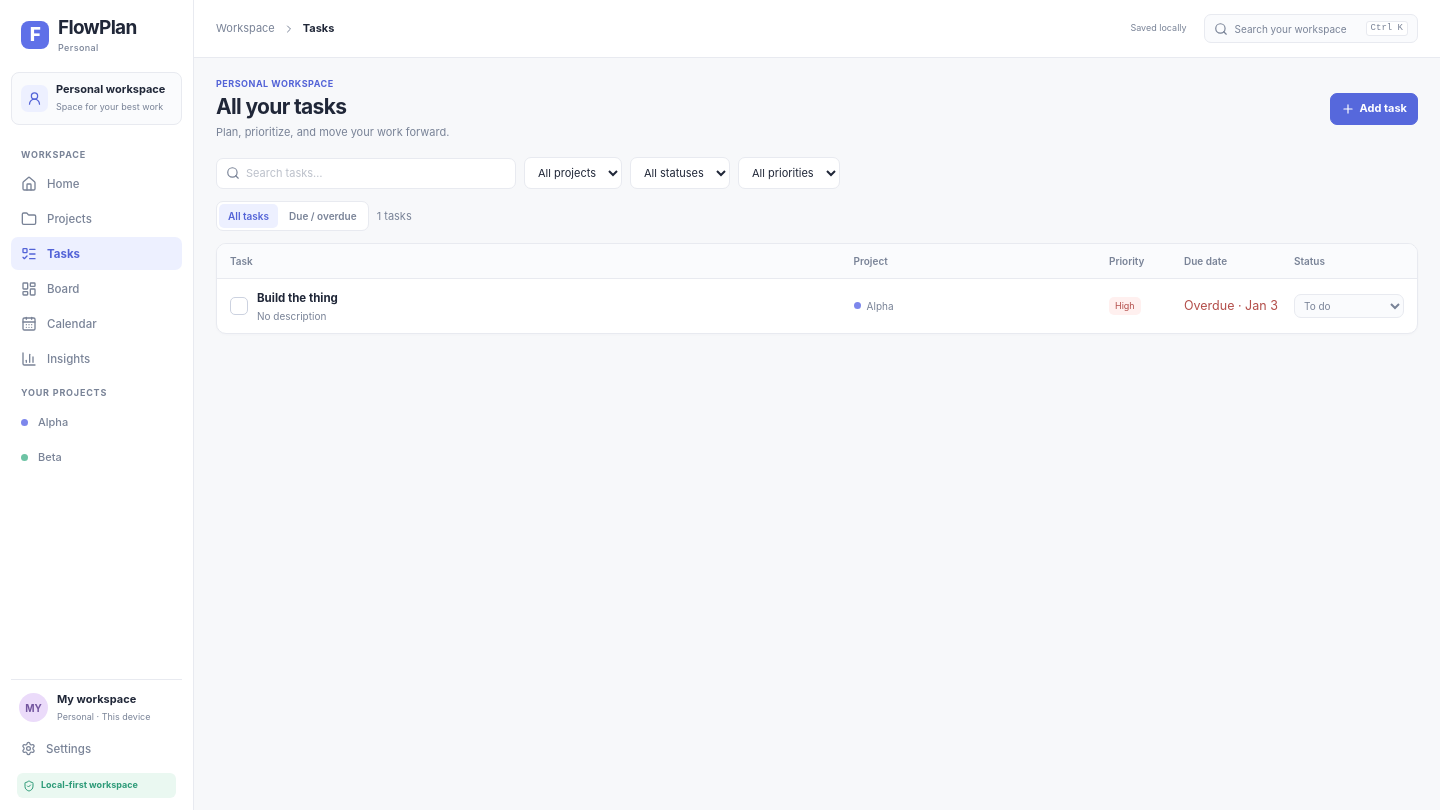
user workflows › edits priorities and workflow status through the task dialog
The image size is (1440, 810).
Click the button "Build the thing". click: (297, 298)
box: [257,290,338,306]
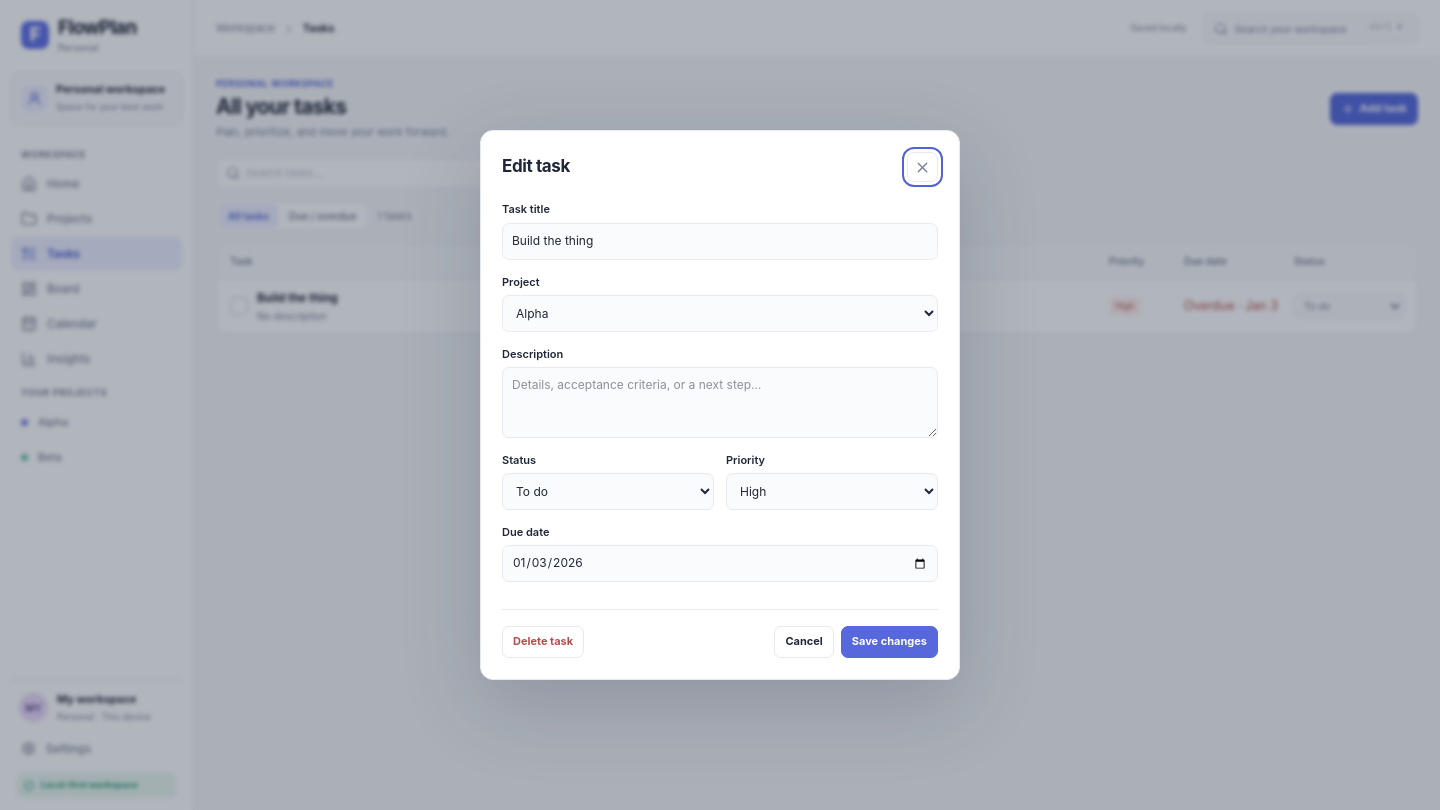
Select "Review" in the dropdown labelled "Status". click: (608, 492)
box: [502,473,714,510]
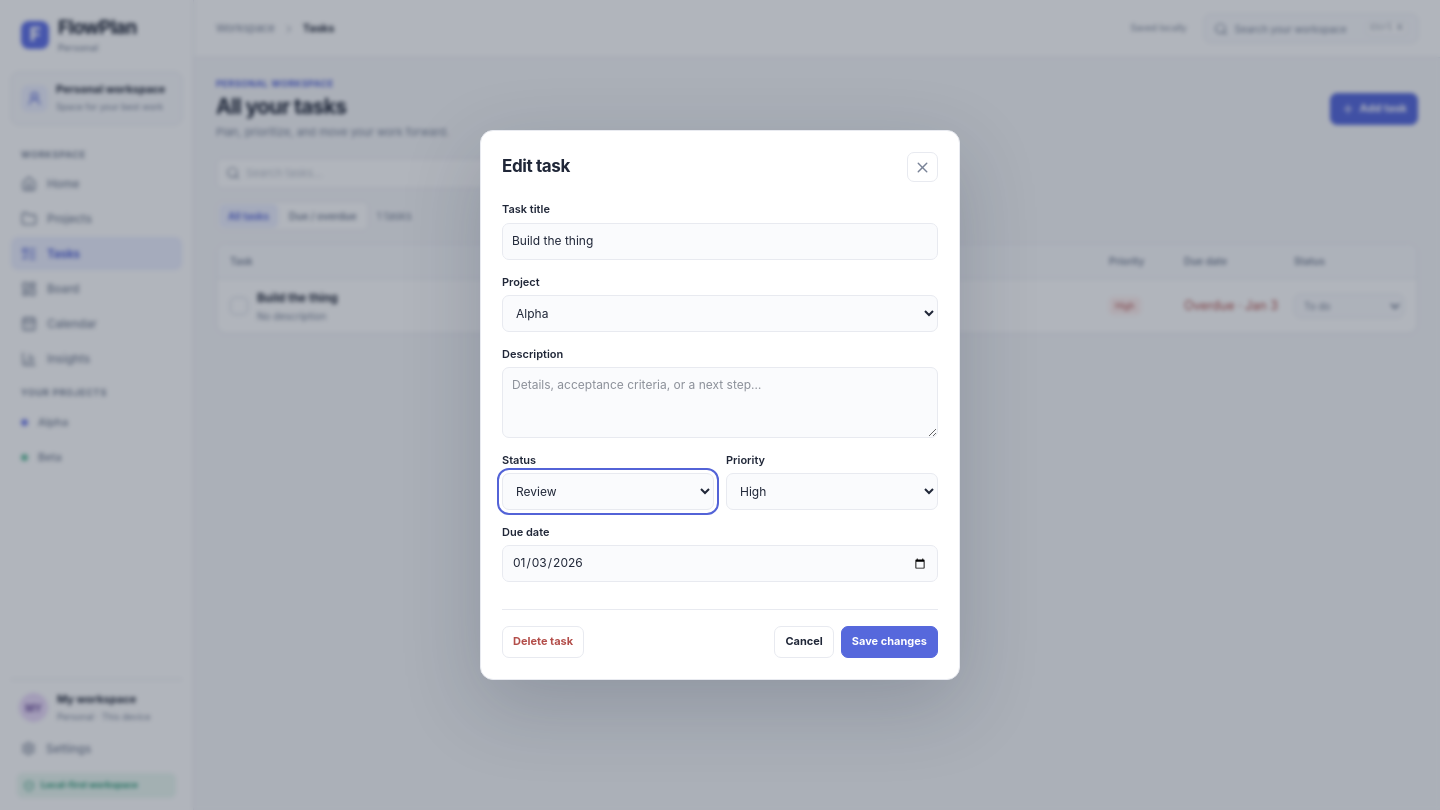
Select "Low" in the dropdown labelled "Priority". click: (832, 492)
box: [726,473,938,510]
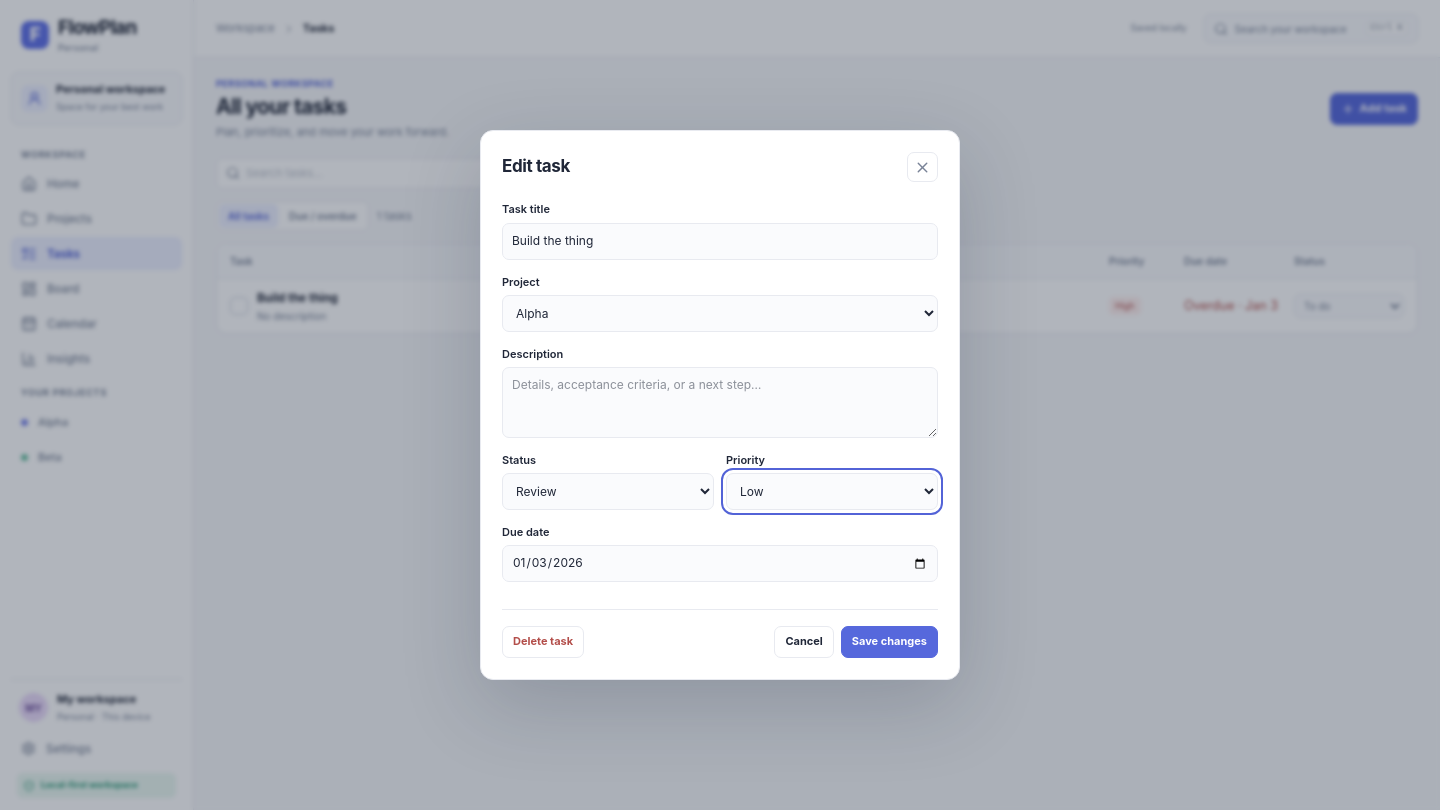
Click the button "Save changes". click: (889, 642)
box: [841,626,938,658]
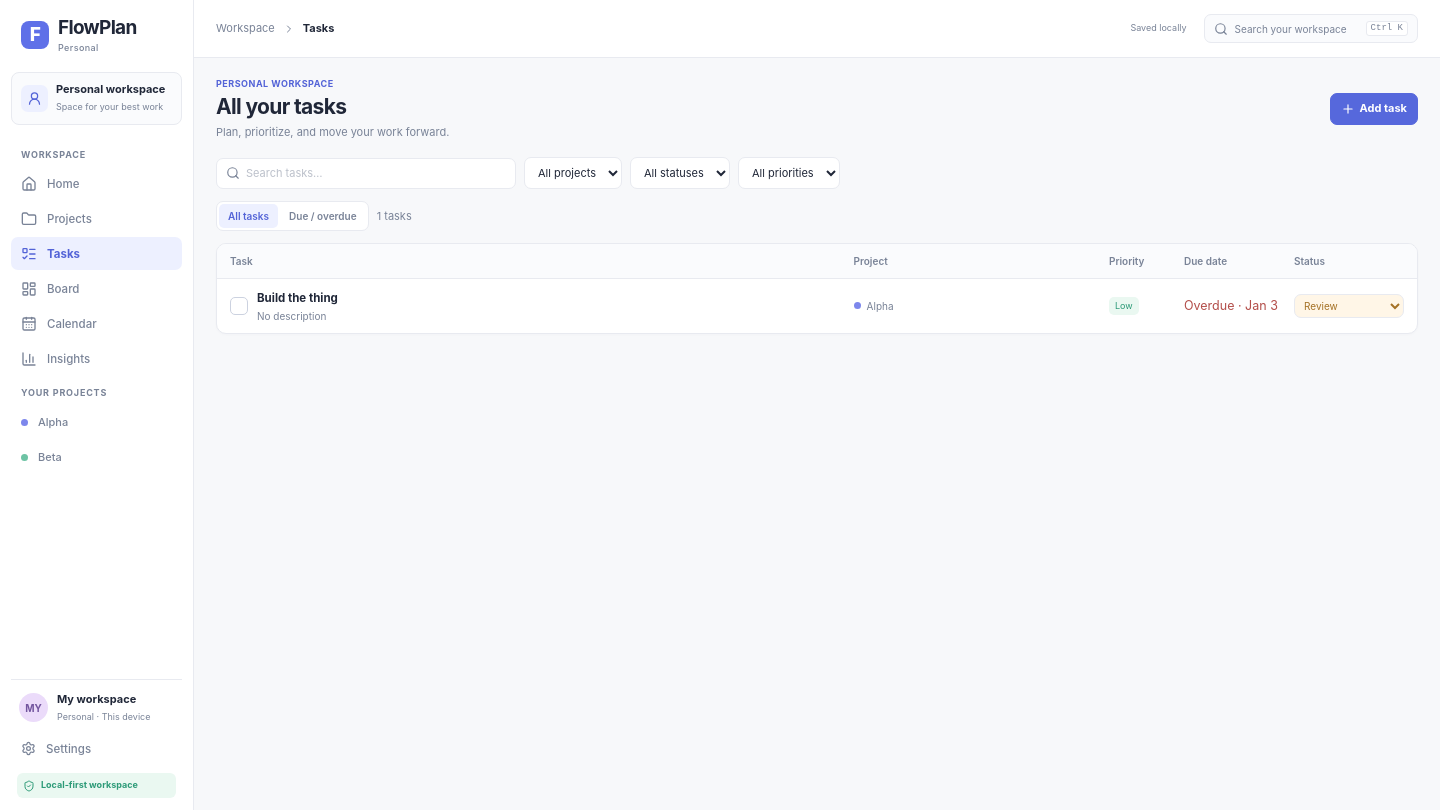
Now the dialog is gone
